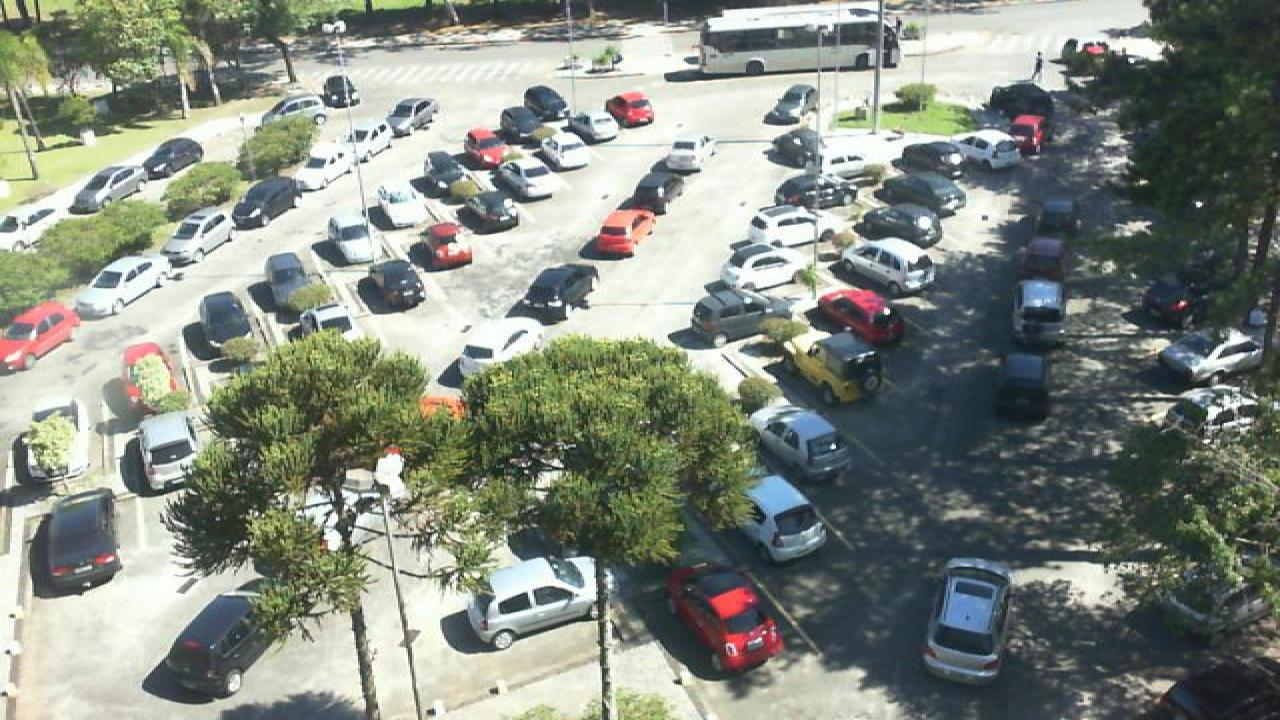Car: (160, 590, 296, 700), (666, 562, 786, 680), (464, 555, 602, 650), (922, 557, 1016, 686), (34, 488, 122, 592), (742, 404, 852, 484), (732, 474, 830, 562), (432, 319, 544, 387), (784, 332, 884, 405), (122, 409, 204, 494), (690, 284, 788, 348), (74, 253, 172, 317), (18, 397, 90, 483), (1156, 324, 1262, 379), (0, 300, 80, 372), (838, 237, 938, 292), (814, 285, 908, 343), (514, 264, 598, 323), (160, 208, 240, 267), (122, 342, 188, 411), (190, 289, 256, 358), (848, 204, 944, 248), (720, 243, 808, 290), (1010, 277, 1070, 344), (1000, 349, 1054, 421), (1132, 274, 1204, 328), (876, 172, 966, 214), (230, 174, 302, 226), (746, 204, 826, 250), (60, 168, 140, 212), (362, 258, 426, 312), (592, 208, 656, 259), (948, 126, 1024, 168), (258, 250, 312, 309), (132, 137, 204, 181), (310, 214, 374, 263), (360, 182, 422, 232), (408, 222, 472, 270), (1010, 234, 1070, 284), (0, 198, 58, 249), (988, 79, 1058, 120), (778, 174, 856, 210), (820, 150, 904, 182), (768, 126, 838, 164), (464, 187, 522, 232), (894, 142, 966, 178), (760, 83, 820, 126), (492, 159, 554, 200), (260, 92, 332, 127), (526, 131, 590, 168), (384, 95, 440, 135), (634, 171, 686, 214), (560, 105, 618, 143), (1004, 112, 1054, 156), (662, 134, 718, 173), (604, 89, 656, 128), (418, 151, 470, 190), (460, 126, 510, 166), (526, 84, 572, 118), (320, 72, 358, 108)
